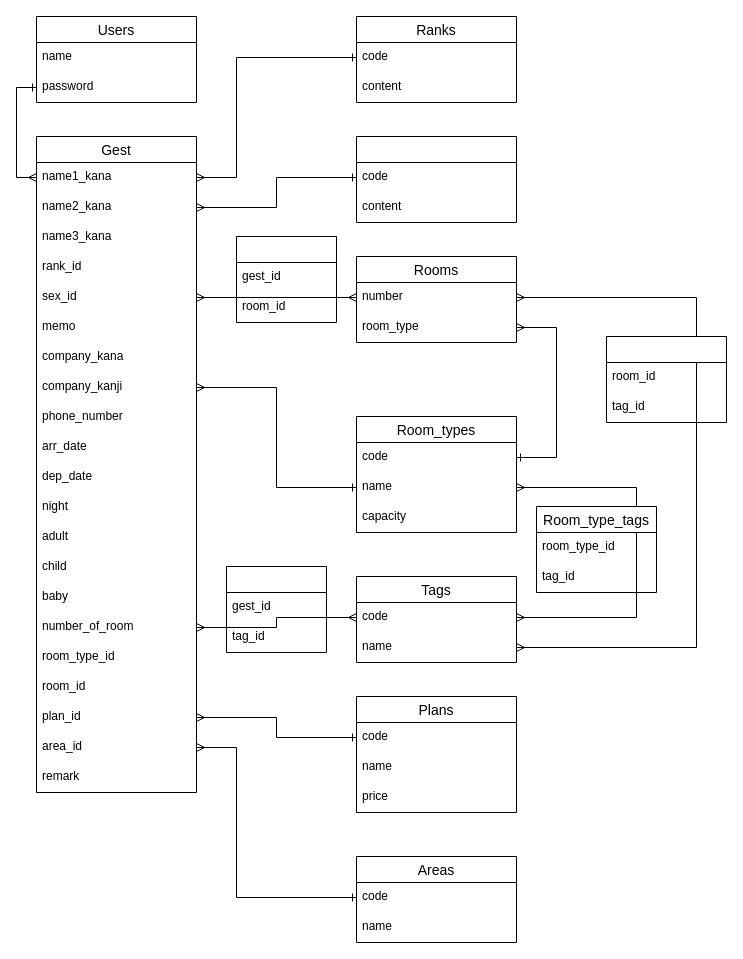
The diagram is 743 pixels wide and 959 high, and some of its shapes have lost their labels. Each missing label, with the box of its shape:
Gest_tags: (226, 566, 326, 652)
Gests_rooms: (236, 236, 336, 322)
Room_tags: (606, 336, 726, 422)
Sexes: (356, 136, 516, 222)
